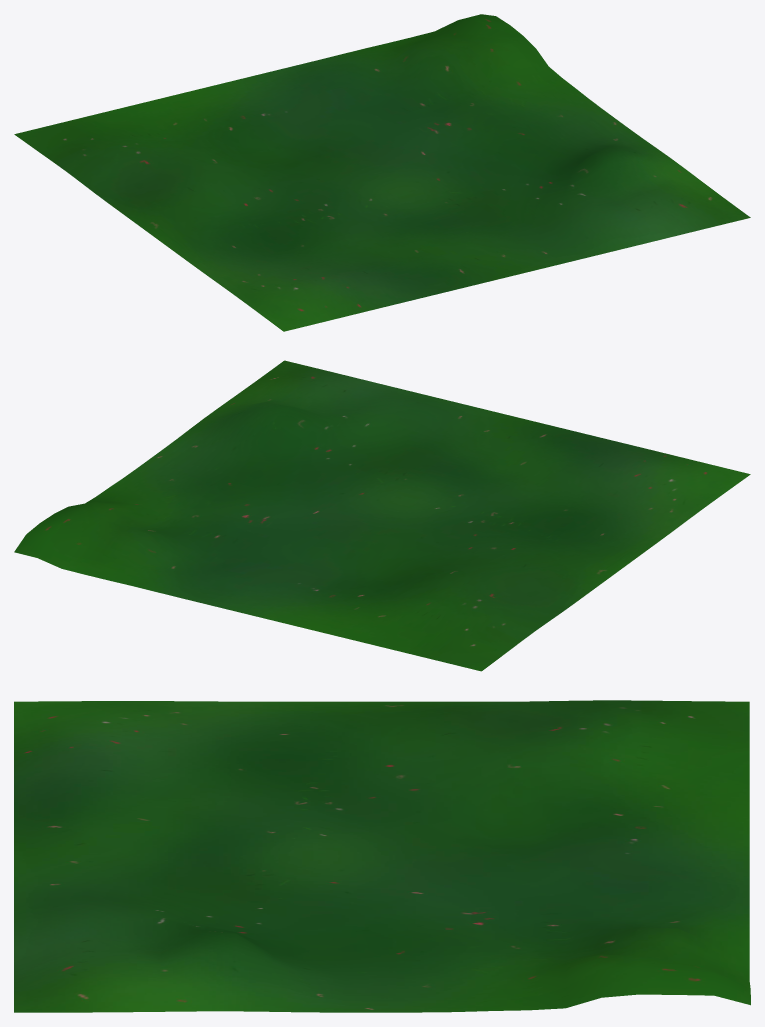
File: outdoors.fbx
3 renders of one model, top to bottom at view 1: azimuth 30°, elevation 25°; view 2: azimuth 150°, elevation 25°; view 3: azimuth 270°, elevation 25°, orthographic. The views are drawn at different scales.
Visible parts, largest first — view 1: pPlane9; view 2: pPlane9; view 3: pPlane9.
Part boxes in pixels (x1=…): pPlane9: x1=14, y1=14, x2=750, y2=331; pPlane9: x1=14, y1=360, x2=750, y2=671; pPlane9: x1=14, y1=700, x2=750, y2=1012.
Size of the model in its own units: 67.52 by 4.25 by 67.31.
Materials: 1 (1 with a texture image).
